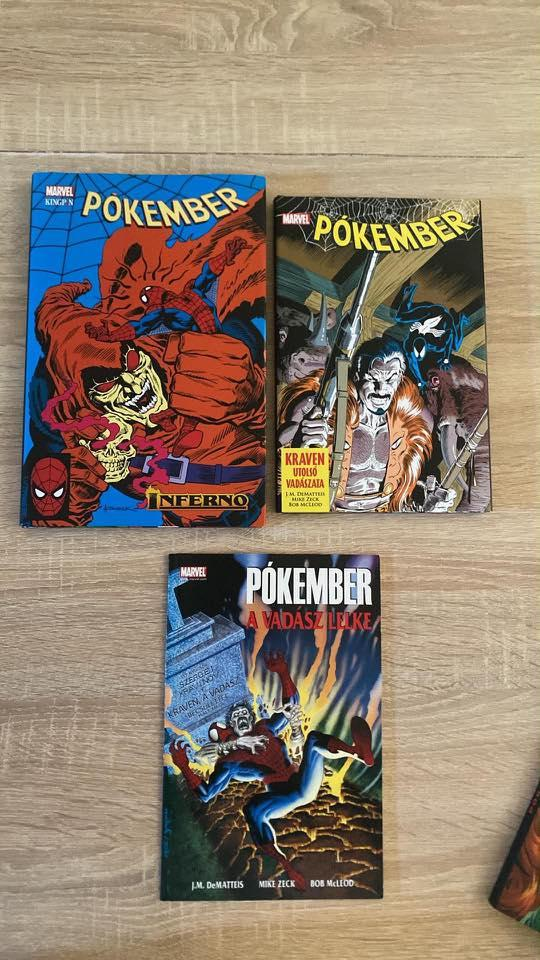comic: (21, 172, 267, 528), (161, 554, 381, 899), (275, 194, 490, 514)
